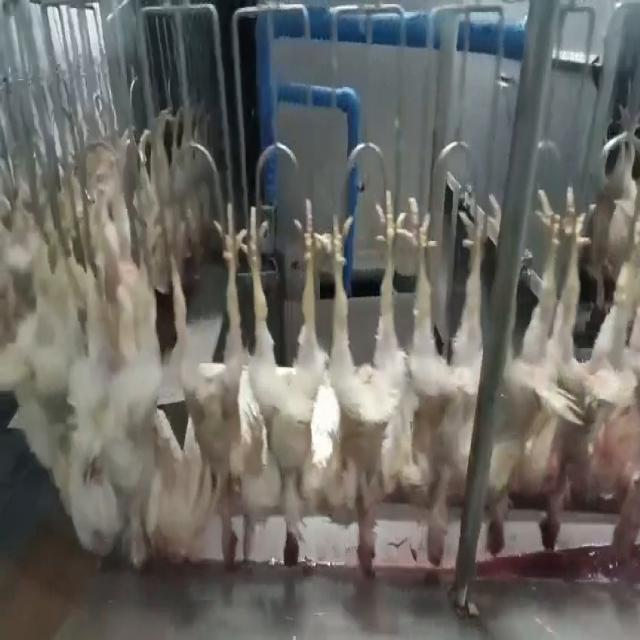chicken: (154, 186, 247, 576), (396, 189, 489, 570), (320, 172, 403, 580), (241, 185, 325, 575), (514, 174, 596, 556), (584, 143, 639, 552)
